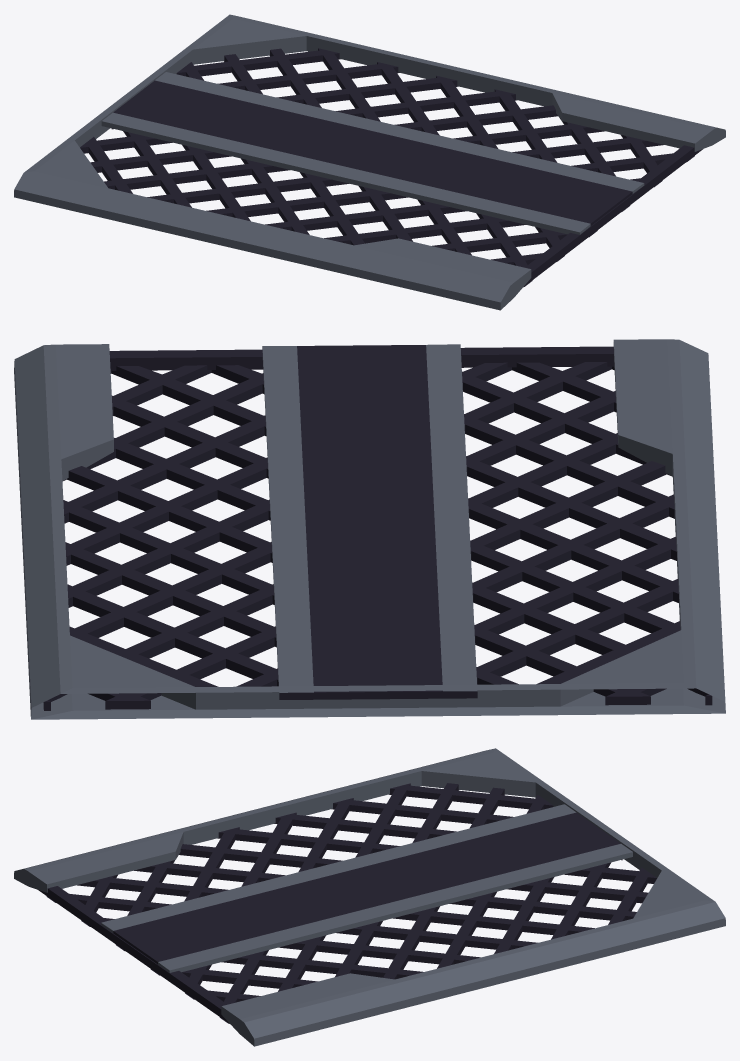
File: grilleGround.fbx
3 views of the same model, one above another, from view 1: azimuth 30°, elevation 25°; view 2: azimuth 150°, elevation 25°; view 3: azimuth 270°, elevation 25° (orthographic). The views are drawn at different scales.
Visible parts, largest first — view 1: grilleGround; view 2: grilleGround; view 3: grilleGround.
Part boxes in pixels (box(x1,y1,x2,y2)): grilleGround: box(14, 14, 725, 310); grilleGround: box(14, 339, 725, 719); grilleGround: box(14, 748, 725, 1046).
Size of the model in its own units: 248 by 6.97 by 259.
